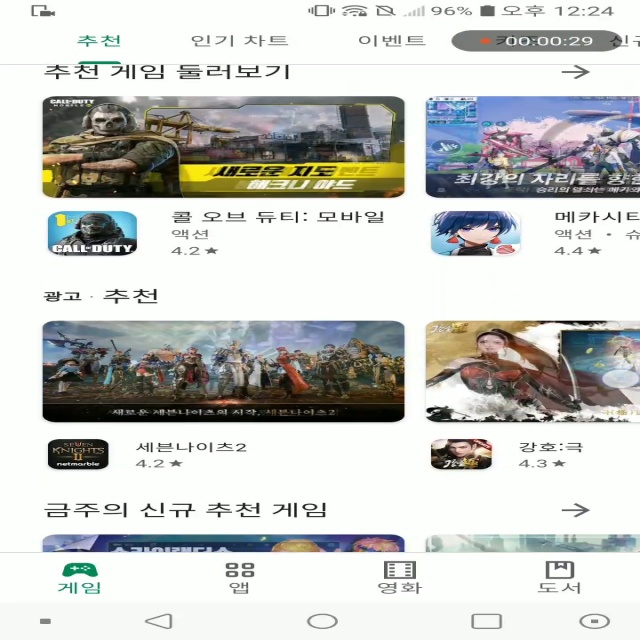Cursor: (596, 368, 640, 391)
